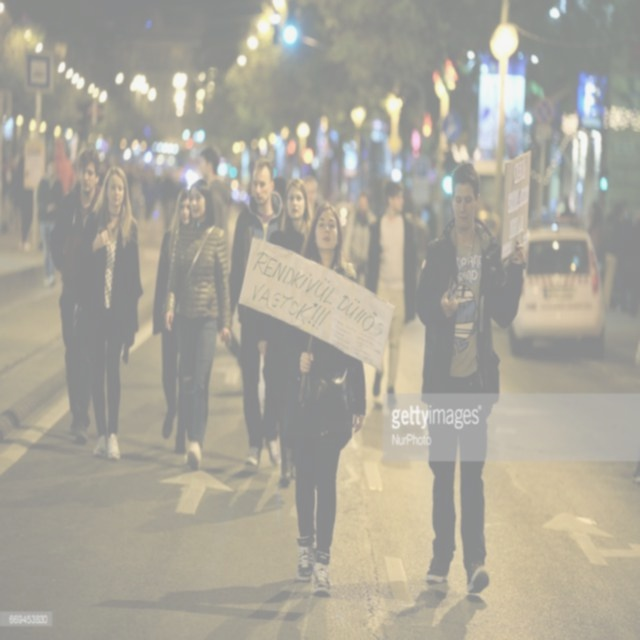pessoa: (413, 160, 528, 595), (273, 200, 368, 597), (72, 165, 146, 462), (159, 178, 233, 472), (228, 155, 288, 471), (257, 177, 312, 490), (48, 146, 103, 448), (358, 177, 418, 407), (196, 144, 242, 373), (152, 186, 190, 453), (583, 193, 639, 319), (35, 159, 66, 290), (1, 150, 34, 265), (341, 194, 378, 288), (54, 138, 74, 194), (303, 175, 326, 218)
